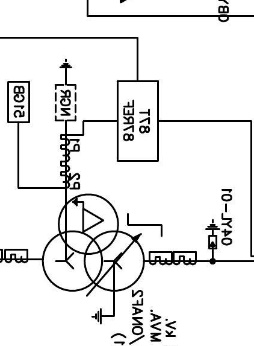11522_tx_ynyn0d1: (41, 193, 145, 292)
115_la: (205, 219, 221, 250)
NGR_future: (54, 58, 77, 122)
